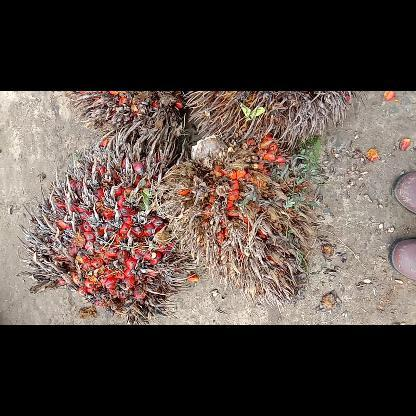Terlalu masak: (16, 150, 198, 324), (154, 129, 324, 309), (63, 91, 185, 171)
